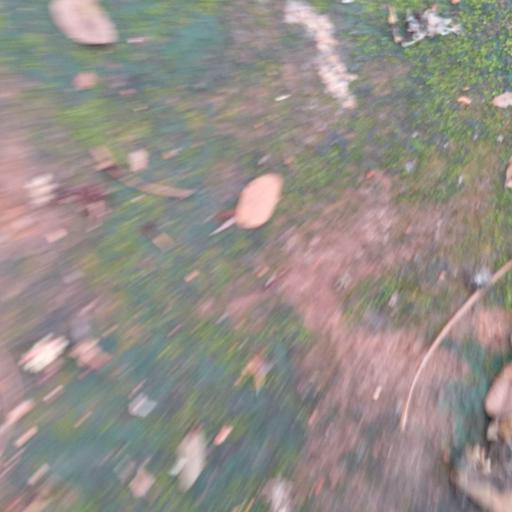algae: (6, 2, 512, 512)
